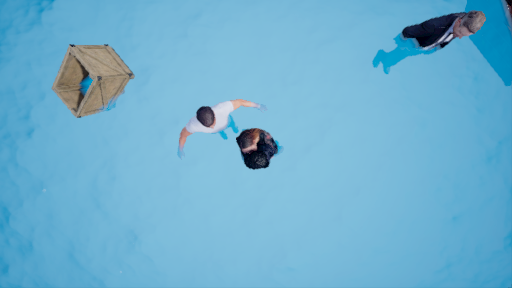person: (180, 92, 279, 182), (374, 10, 485, 72)
